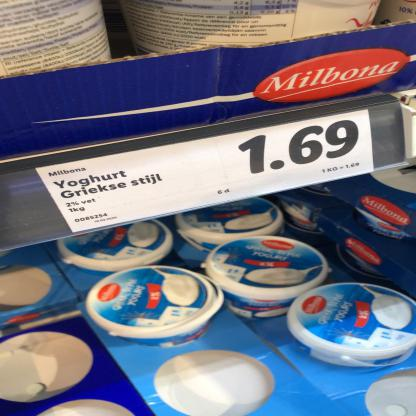prtg: (36, 110, 375, 234)
